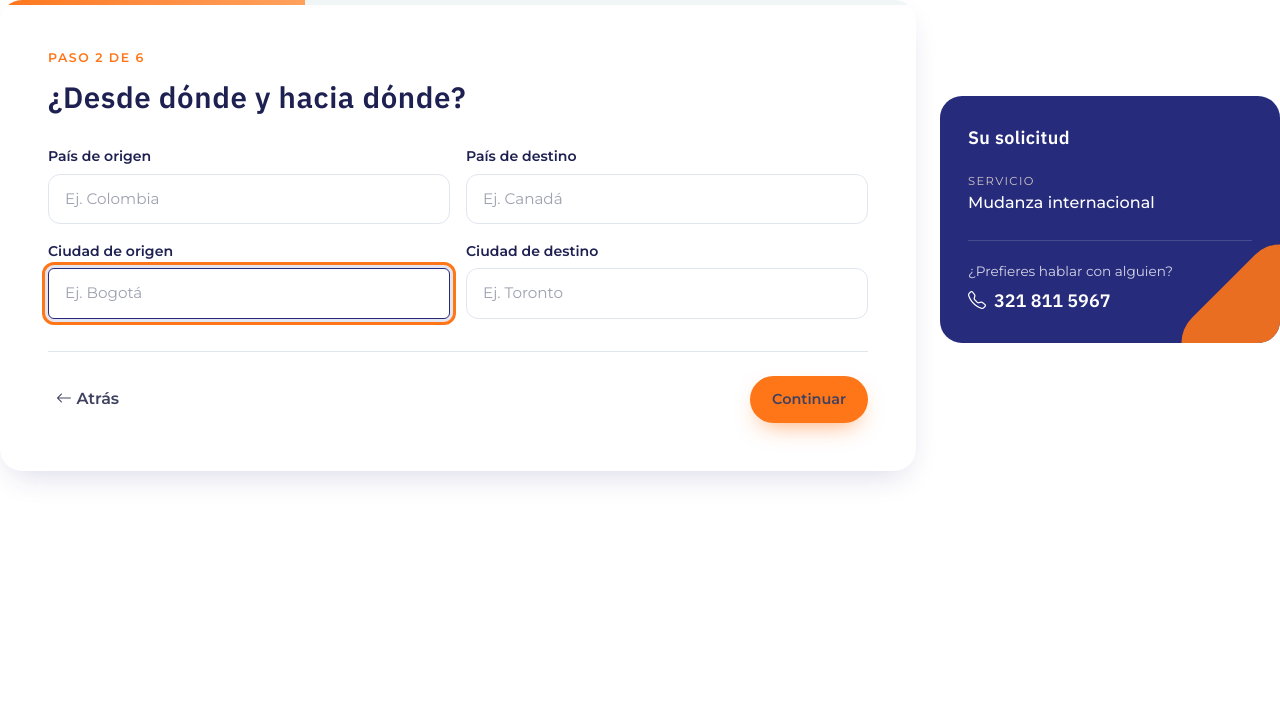
Test: Cotizador › no avanza sin los datos obligatorios y explica qué falta
Click the button "Continuar" at (809, 399), box [750, 376, 868, 423]
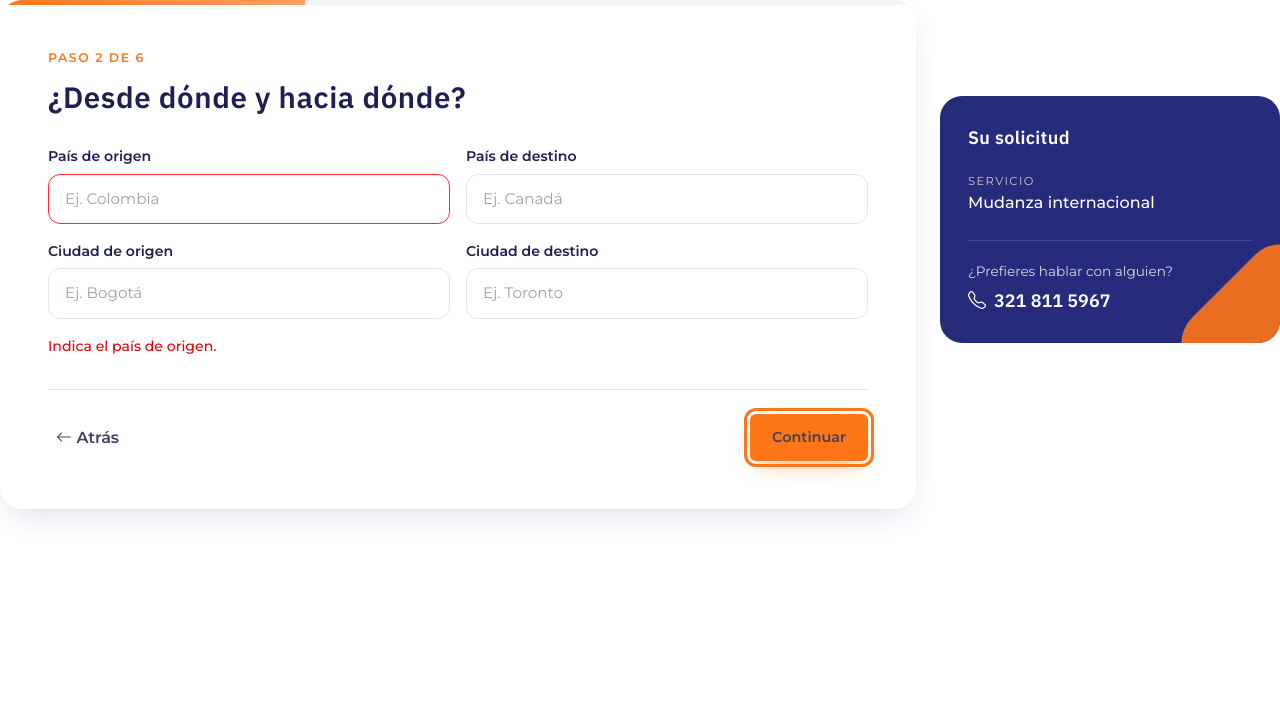
Now the text "Indica el país de origen." is shown, box [48, 337, 216, 355]
